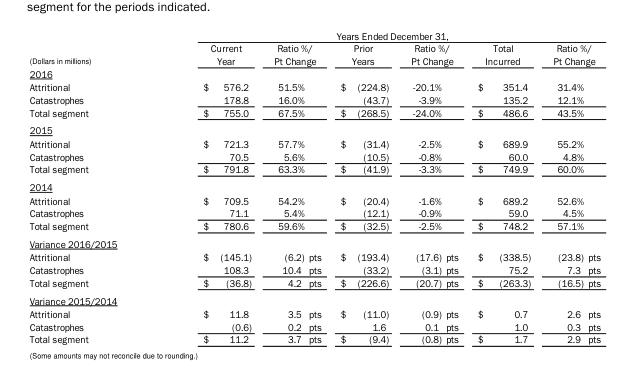table: (28, 29, 599, 344)
table column: (28, 29, 146, 344), (146, 29, 262, 344), (467, 29, 541, 344), (330, 29, 399, 344), (399, 29, 443, 344), (541, 29, 585, 344), (262, 29, 305, 344), (305, 29, 330, 344), (443, 29, 467, 344), (585, 29, 599, 344)
table column header: (28, 29, 599, 66)
table projected row header: (28, 120, 599, 136), (28, 177, 599, 193), (28, 234, 599, 250), (28, 291, 599, 306), (28, 66, 599, 79)
table row: (28, 41, 599, 66), (28, 120, 599, 136), (28, 177, 599, 193), (28, 234, 599, 250), (28, 275, 599, 291), (28, 105, 599, 120), (28, 162, 599, 177), (28, 219, 599, 234), (28, 291, 599, 306), (28, 79, 599, 93), (28, 66, 599, 79), (28, 136, 599, 149), (28, 149, 599, 162), (28, 193, 599, 206), (28, 206, 599, 219), (28, 250, 599, 263), (28, 306, 599, 319), (28, 319, 599, 332), (28, 29, 599, 41), (28, 93, 599, 105), (28, 263, 599, 275), (28, 332, 599, 344)
table spanning cell: (146, 29, 599, 41), (28, 29, 146, 66), (262, 41, 330, 66), (399, 41, 467, 66), (541, 41, 599, 66)
